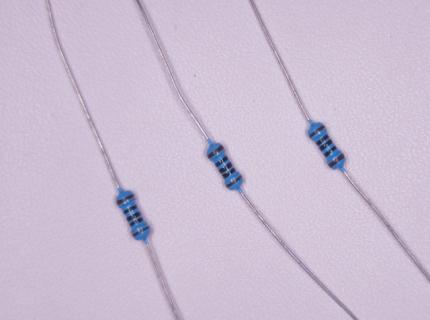Black band: (218, 162, 233, 174), (222, 167, 236, 179), (319, 139, 333, 151), (323, 145, 337, 157), (316, 134, 329, 146), (126, 211, 141, 221), (129, 217, 144, 227), (215, 156, 228, 167), (123, 205, 138, 214)
Brown band: (328, 153, 345, 168), (208, 145, 224, 159), (309, 125, 325, 139), (116, 193, 134, 205), (226, 175, 242, 188), (133, 226, 150, 237)
